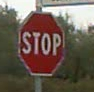stop: (15, 9, 66, 77)
